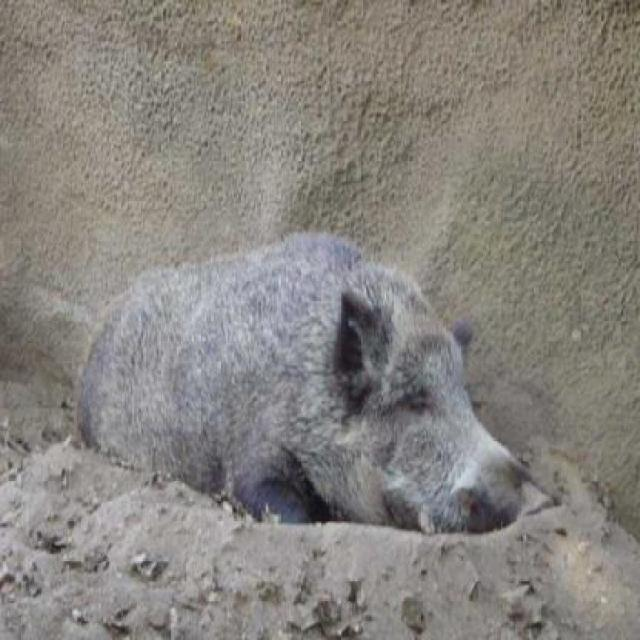pig: (0, 131, 523, 532)
